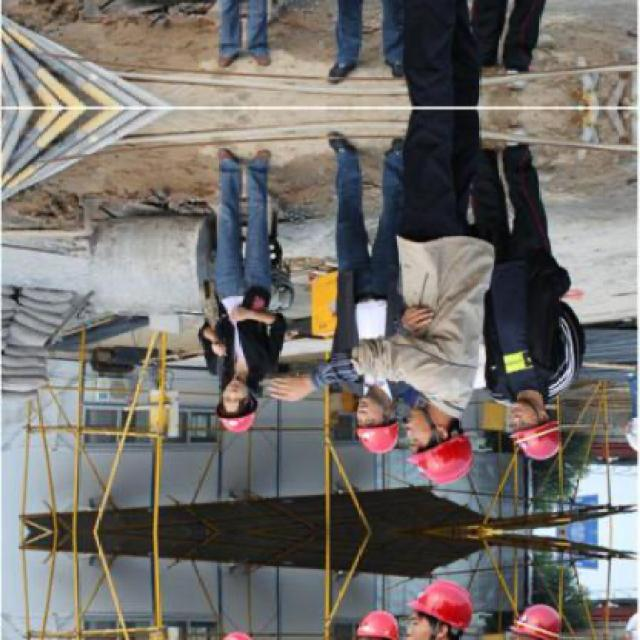con casco: (490, 375, 595, 489), (396, 384, 482, 497), (184, 340, 271, 444), (340, 360, 396, 464)
